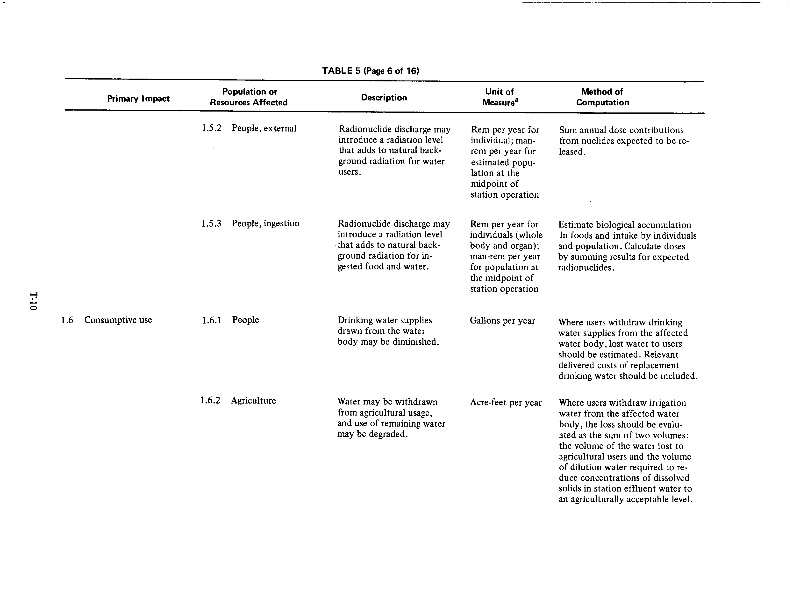table: (56, 79, 723, 522)
